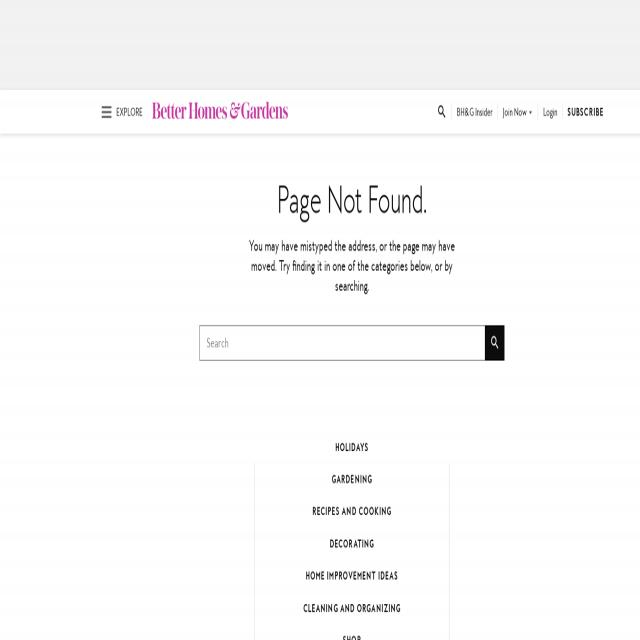button: (255, 495, 449, 528), (255, 559, 449, 592), (255, 591, 449, 624), (255, 431, 450, 463), (255, 463, 449, 495), (255, 527, 449, 559), (148, 93, 300, 131), (255, 624, 450, 640), (96, 93, 146, 130), (452, 100, 497, 126), (498, 99, 537, 126), (562, 102, 608, 124), (485, 326, 505, 362), (538, 100, 562, 125), (434, 100, 449, 125)
field: (200, 325, 485, 360)
